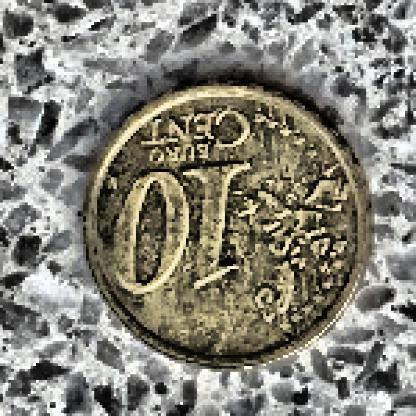coin: (84, 86, 374, 368)
